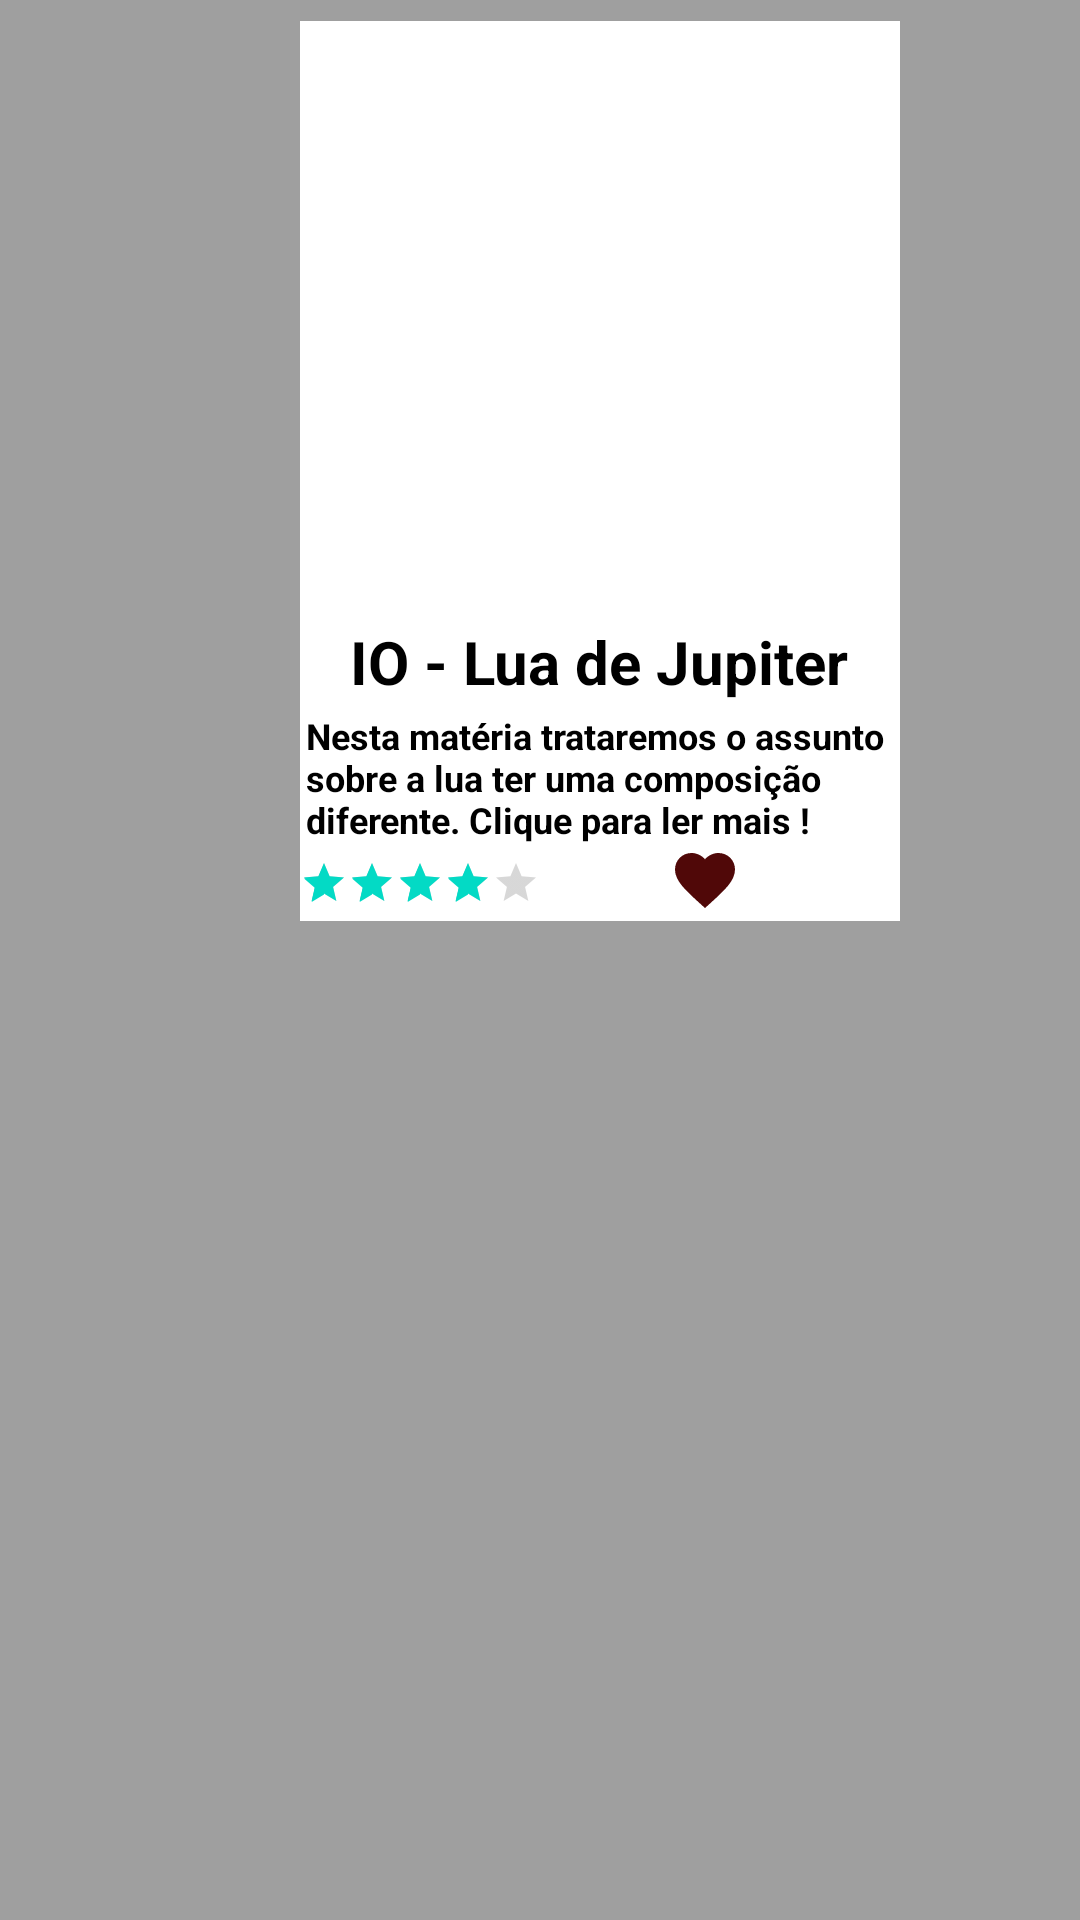

Screen size 1080 x 1920. Icon name, then its box in pixels as (x1, y1, x2, y2):
favorite: (675, 853, 735, 908)
